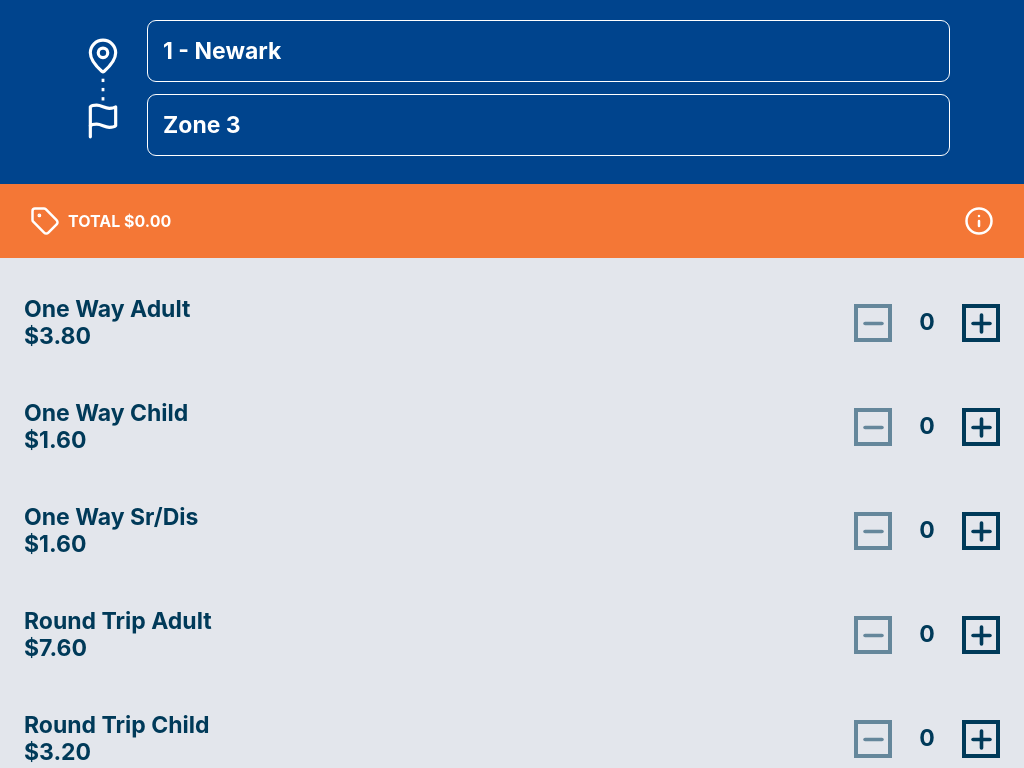
Scenario: verified fare behavior › updates total, never allows a negative quantity and enables checkout
Check: the button named "Remove One Way Adult" is disabled, box [854,304,892,342]
Click the button named "Add One Way Adult" at (981, 323), box [962,304,1000,342]
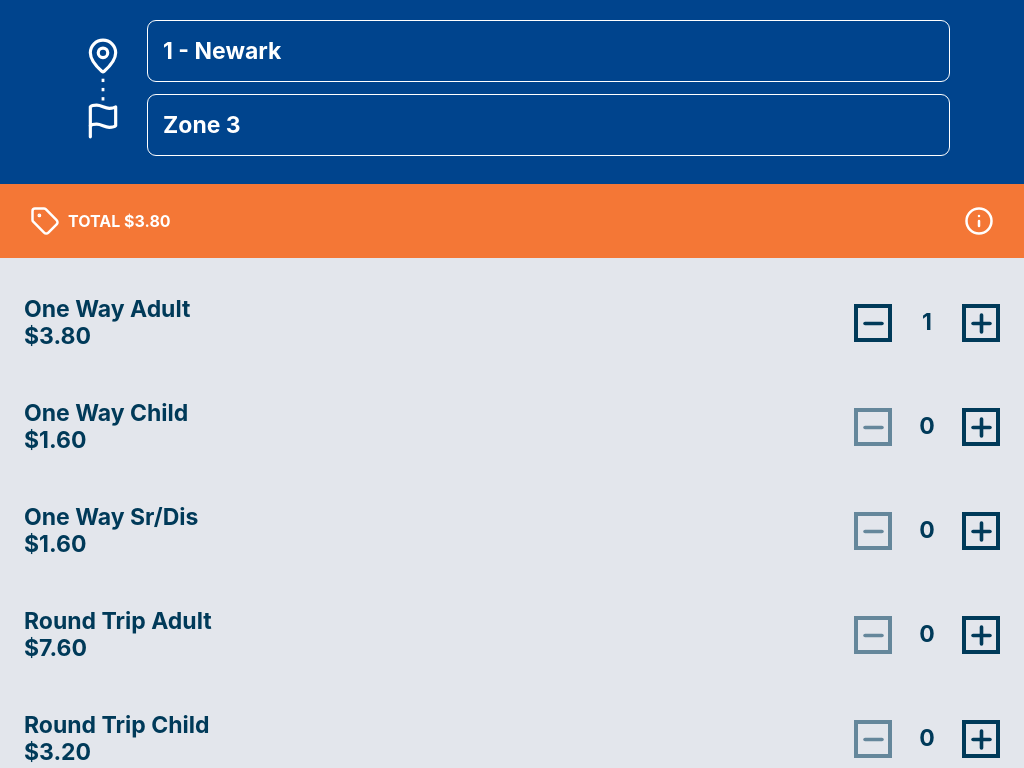
Click the button named "Add One Way Child" at (981, 427), box [962,408,1000,446]
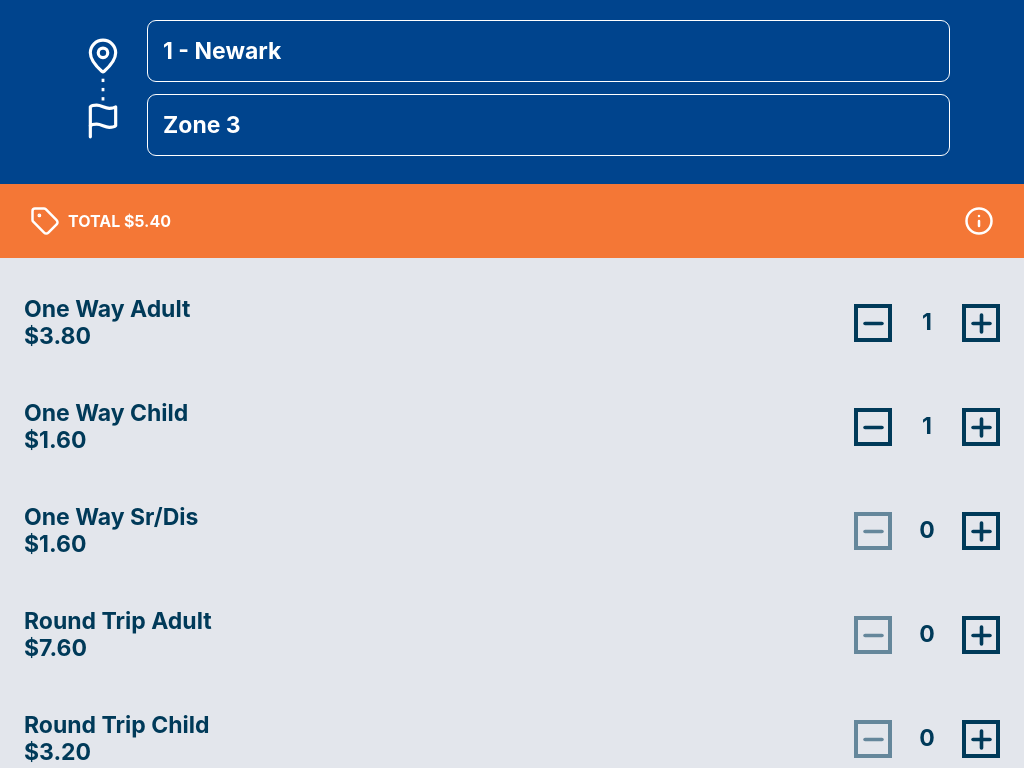
Check: the text "TOTAL $5.40" is shown, box [68,209,171,233]
Click the button named "Remove One Way Adult" at (873, 323), box [854,304,892,342]
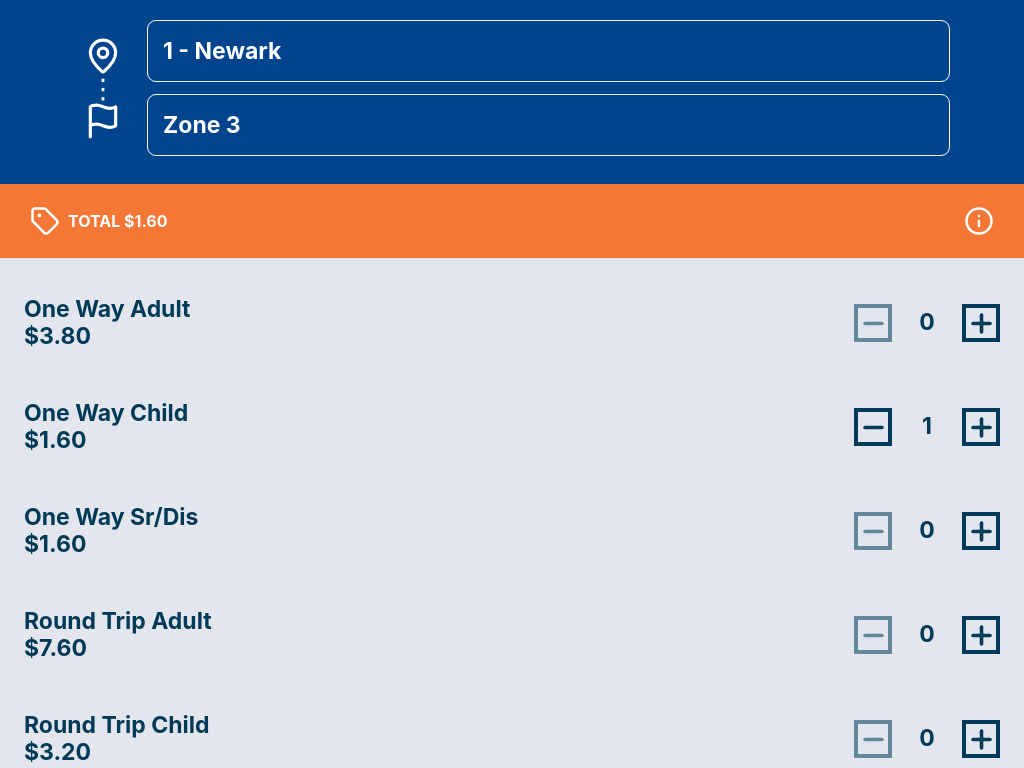
Check: the text "TOTAL $1.60" is shown, box [68,209,168,233]
Check: the button named "Remove One Way Adult" is disabled, box [854,304,892,342]
